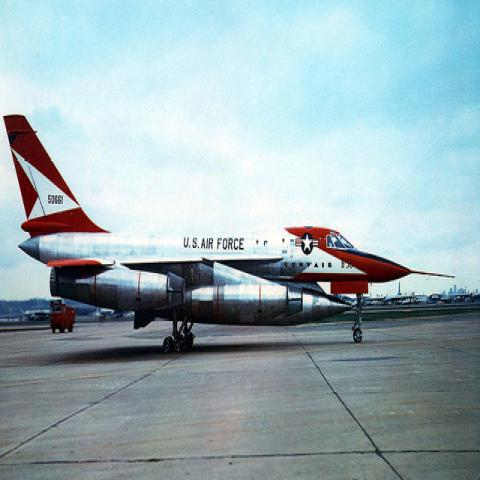truck: (50, 299, 76, 334)
